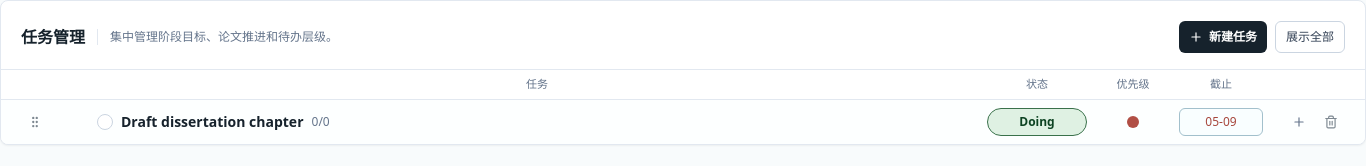
TaskManager › saves a title edit when focus leaves the input
Click the button "Draft dissertation chapter" at {"x": 212, "y": 122}, box [121,112,304,132]
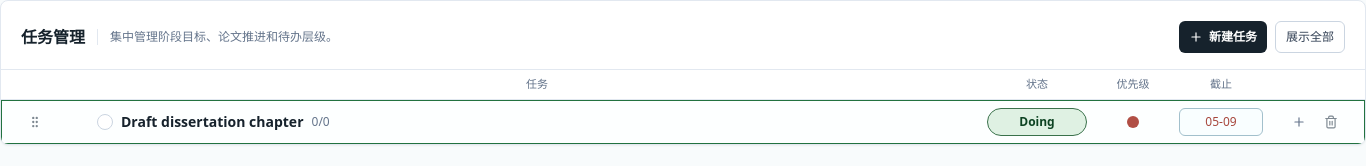
Click the button "Draft dissertation chapter" at {"x": 212, "y": 122}, box [121,112,304,132]
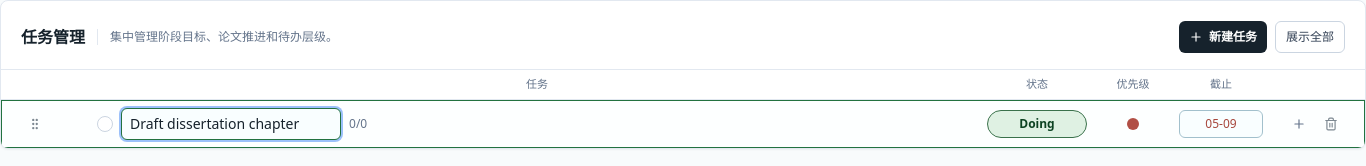
Replace the text in the field named "Edit title for Draft dissertation chapter" with "Blur saved chapter" at {"x": 231, "y": 124}, box [121,108,341,140]
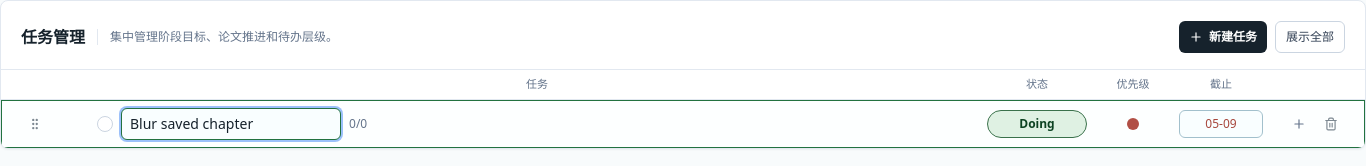
Leave the field named "Edit title for Draft dissertation chapter", box [121,108,341,140]
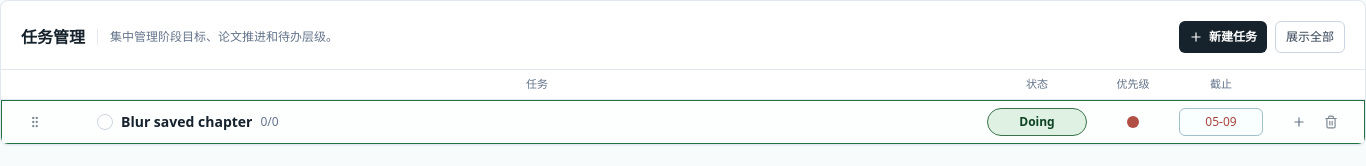
Result: the button "Blur saved chapter" is shown at [121,112,252,132]
